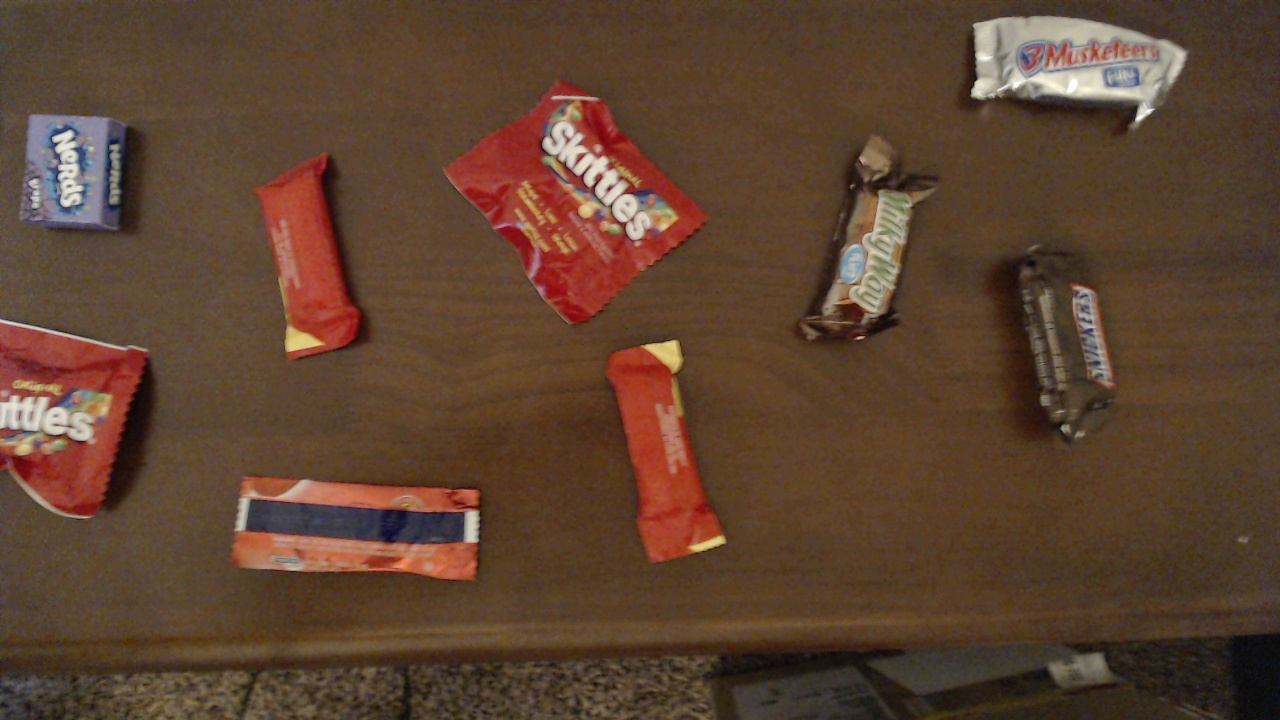airheads: (224, 464, 496, 582)
milky_way: (828, 88, 922, 377)
nerds: (9, 94, 149, 258)
skittles: (419, 90, 708, 319), (0, 318, 149, 534)
snickers: (977, 213, 1142, 463)
starbust: (580, 339, 741, 581), (231, 150, 378, 383)
three_musketeers: (958, 11, 1188, 149)
